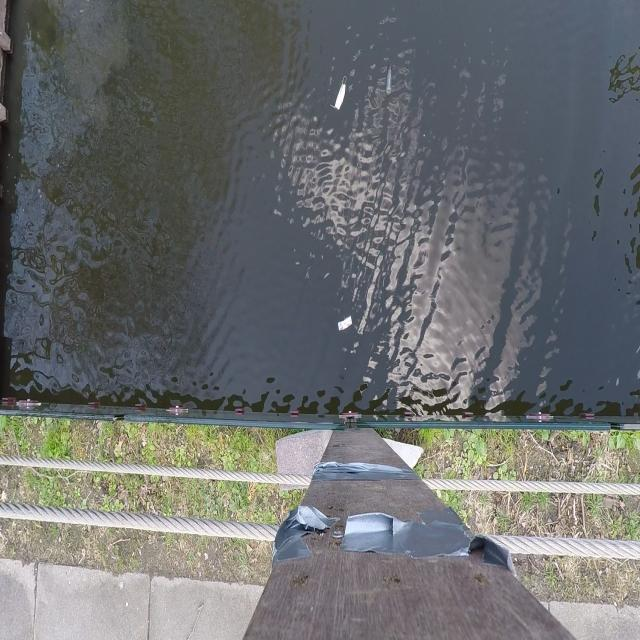Non plastique: (332, 72, 349, 116), (337, 312, 354, 337)
